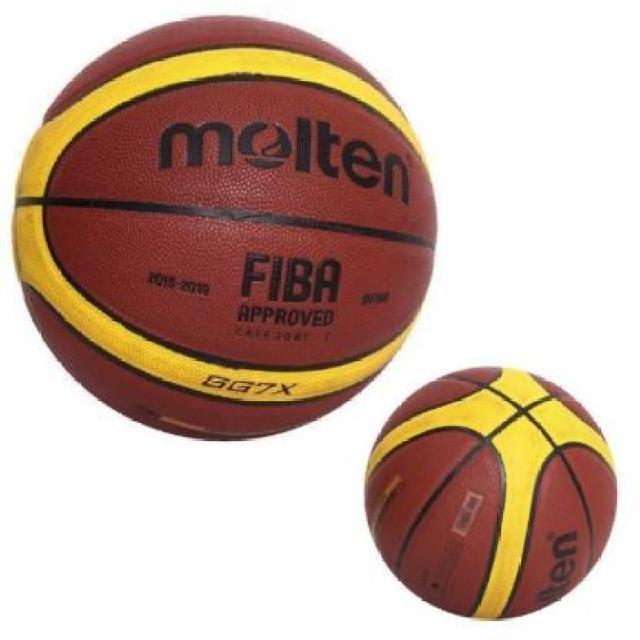Ball: (12, 9, 437, 448), (358, 365, 620, 620)
